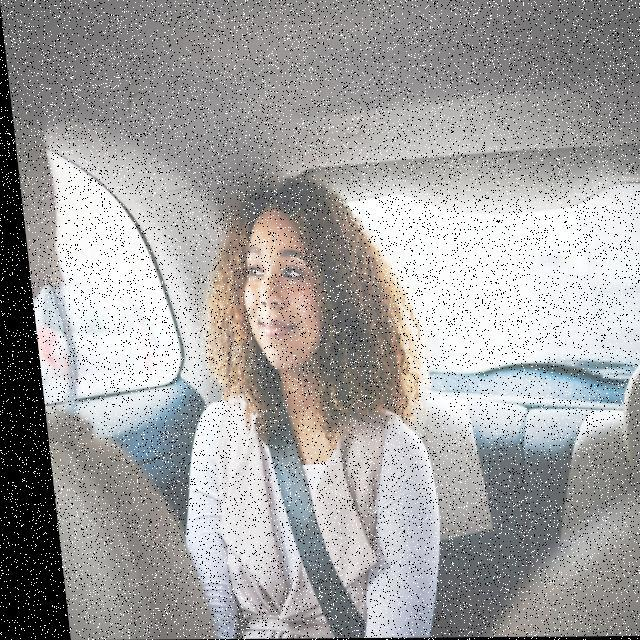seatbelt: (158, 352, 434, 639)
